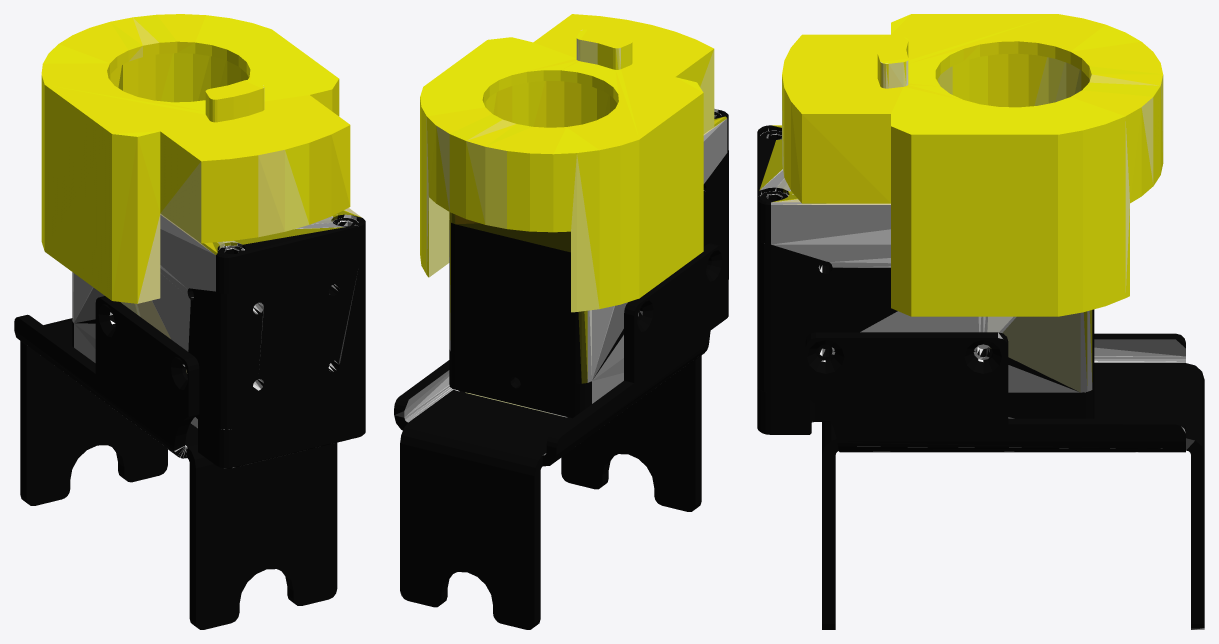
Rendered from HansCuteLink2.dae.
3 views of the same model, side by side, from view 1: azimuth 30°, elevation 25°; view 2: azimuth 150°, elevation 25°; view 3: azimuth 270°, elevation 25° (orthographic). The views are drawn at different scales.
Visible parts, largest first — view 1: HansCuteLink2; view 2: HansCuteLink2; view 3: HansCuteLink2.
Part boxes in pixels (box(x1,y1,x2,y2)): HansCuteLink2: box(14, 14, 365, 629); HansCuteLink2: box(394, 14, 728, 629); HansCuteLink2: box(757, 14, 1204, 629).
Size of the model in its own units: 0.042 by 0.0657 by 0.0885.
